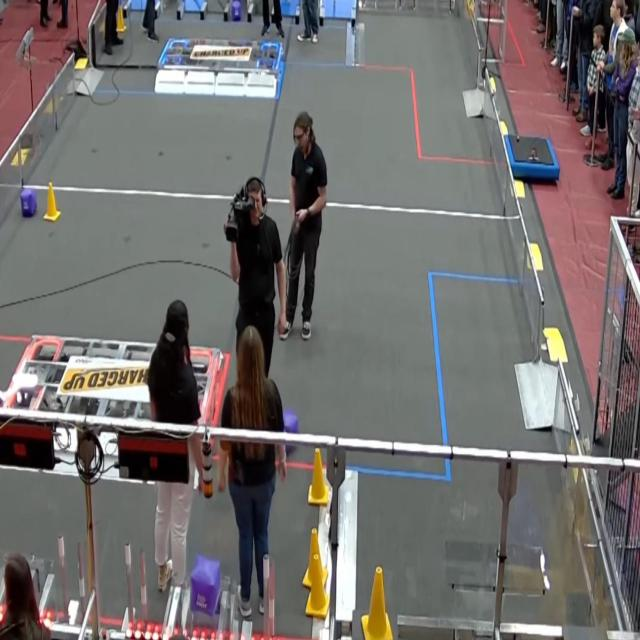frc_cone: (361, 566, 392, 640), (302, 528, 329, 591), (305, 553, 330, 619), (307, 448, 330, 505), (42, 183, 60, 221)
frc_cube: (190, 558, 220, 614), (280, 408, 298, 440), (21, 188, 38, 216), (230, 1, 242, 20)
